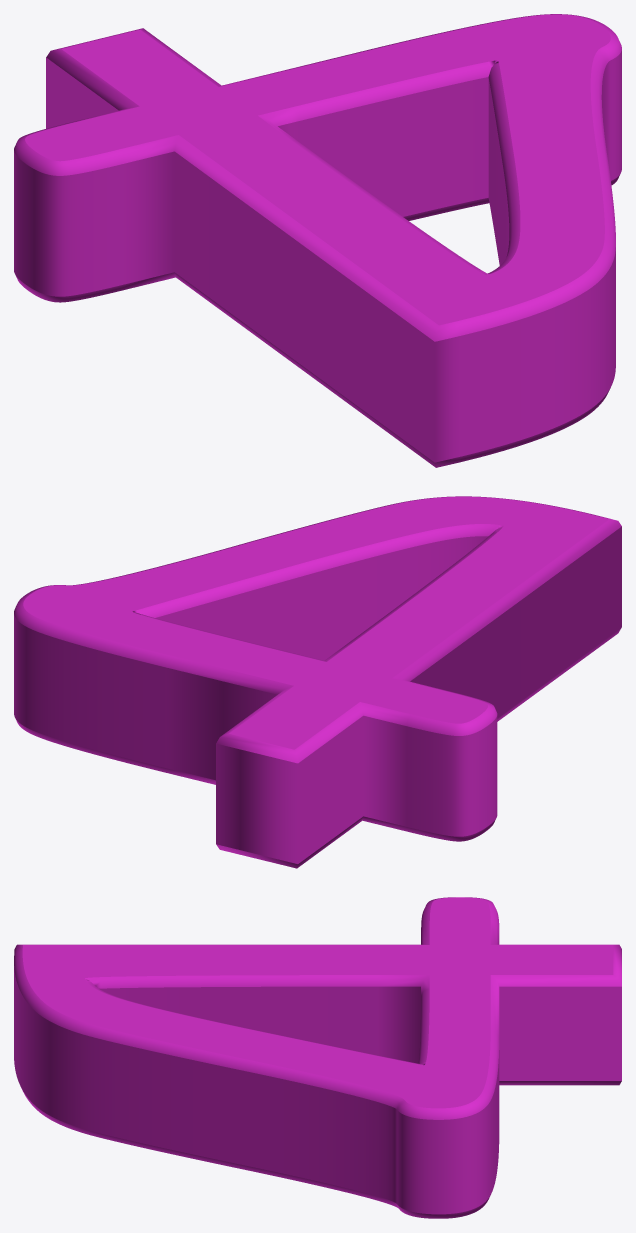
The model's file is Number_4_CoolFont.fbx.
3 renders of one model, top to bottom at view 1: azimuth 30°, elevation 25°; view 2: azimuth 150°, elevation 25°; view 3: azimuth 270°, elevation 25°, orthographic. The views are drawn at different scales.
Parts seen in each view (by area): view 1: Number_4; view 2: Number_4; view 3: Number_4.
Part boxes in pixels (x1,y1,x2,y2): Number_4: [14, 14, 621, 467]; Number_4: [14, 496, 621, 868]; Number_4: [14, 897, 621, 1218].
Bounding box in the file's own units: 0.5949 × 0.14 × 0.7003.
